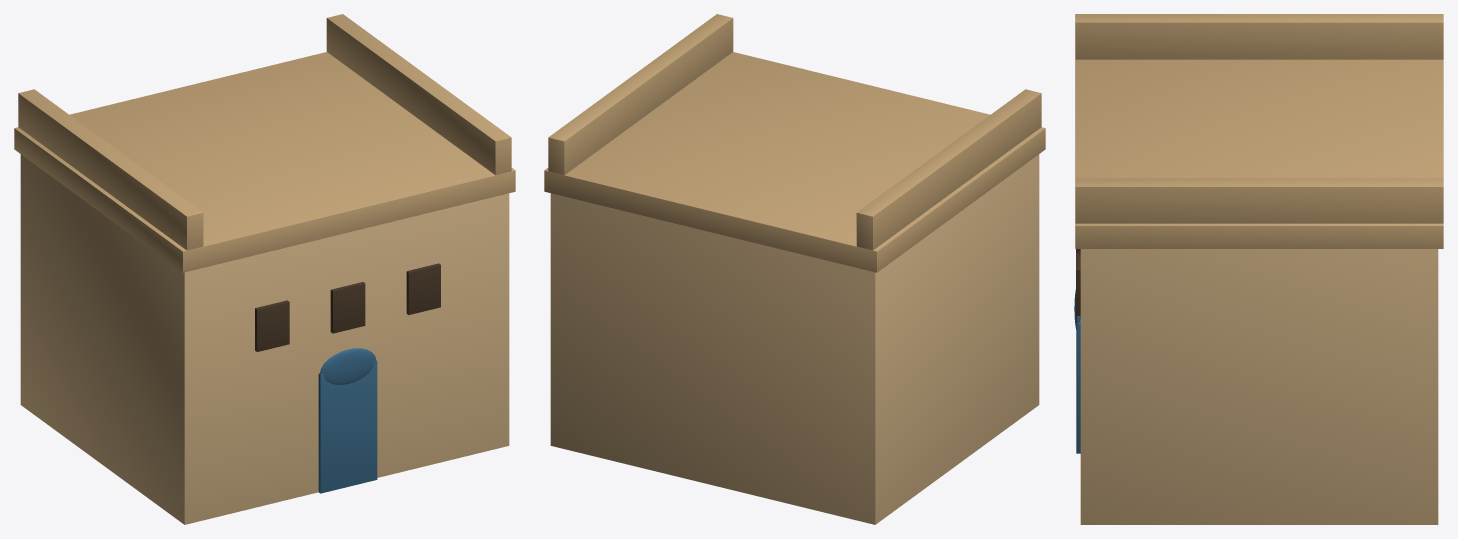
Rendered from rg_oriente_1.glb.
The picture shows the model from 3 angles, left to right: view 1: azimuth 30°, elevation 25°; view 2: azimuth 150°, elevation 25°; view 3: azimuth 270°, elevation 25°; orthographic projection. The views are drawn at different scales.
Visible parts, largest first — view 1: rg_oriente_1; view 2: rg_oriente_1; view 3: rg_oriente_1.
Boxes of the visible parts, x1=… form: rg_oriente_1: x1=14, y1=14, x2=515, y2=524; rg_oriente_1: x1=544, y1=14, x2=1045, y2=524; rg_oriente_1: x1=1074, y1=14, x2=1443, y2=524.
Bounding box in the file's own units: 8.2 × 7.3 × 7.22.
